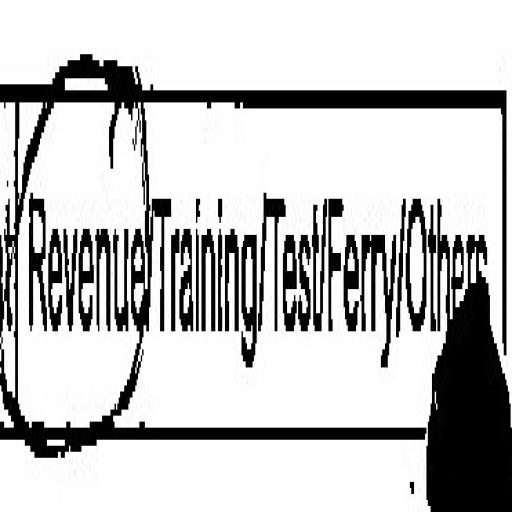check: (5, 0, 151, 496)
